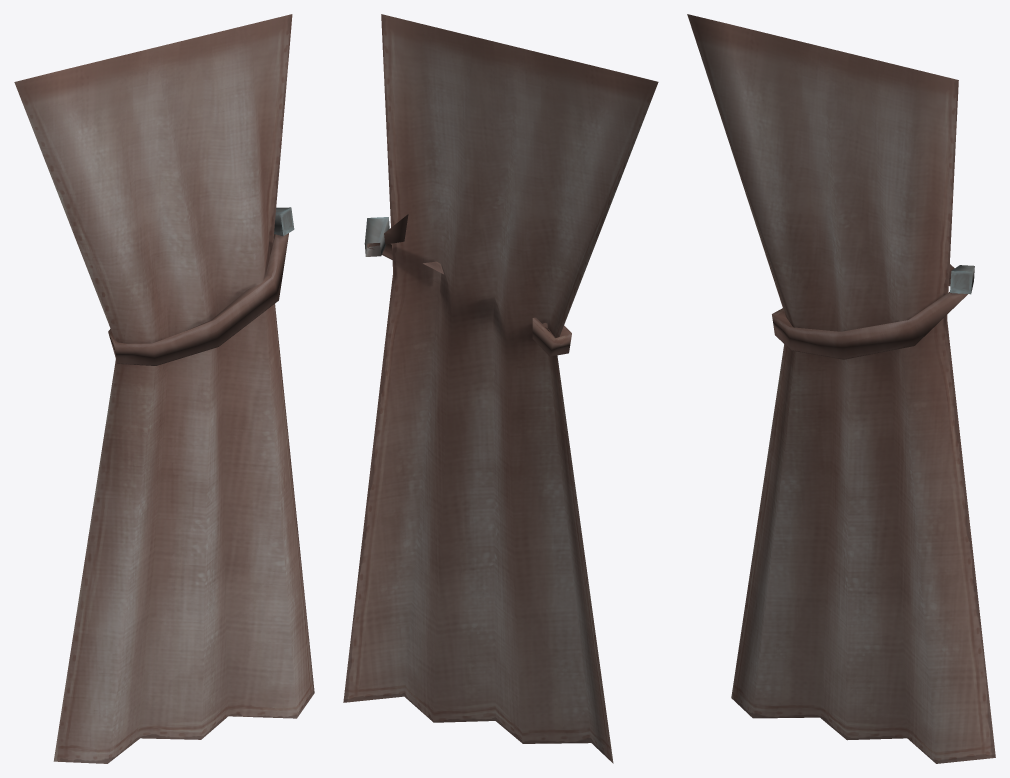
Rendered from curtain_3.FBX.
3 views of the same model, side by side, from view 1: azimuth 30°, elevation 25°; view 2: azimuth 150°, elevation 25°; view 3: azimuth 330°, elevation 25° (orthographic). The views are drawn at different scales.
Visible parts, largest first — view 1: curtain_3; view 2: curtain_3; view 3: curtain_3.
Boxes of the visible parts, x1,y1,x2,y2 form: curtain_3: [14, 14, 314, 763]; curtain_3: [343, 14, 658, 763]; curtain_3: [687, 14, 995, 763].
Size of the model in its own units: 78.03 by 167 by 20.41.
Materials: 1 (1 with a texture image).
